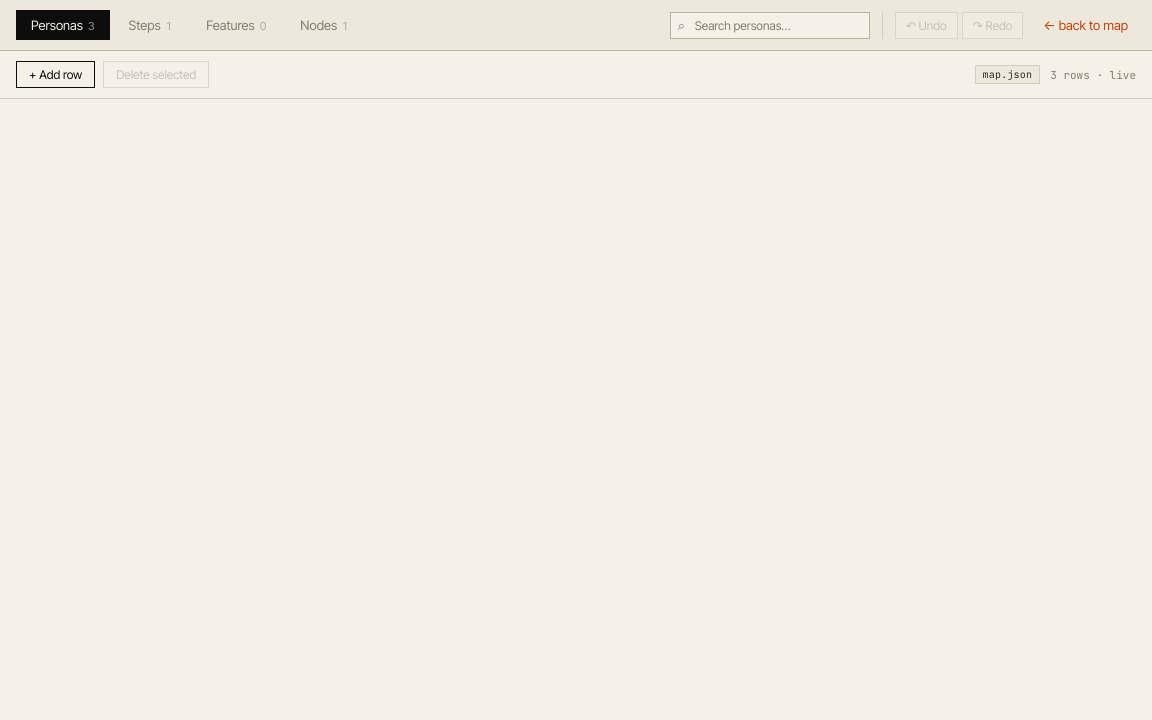
Test: DatabasePanel grid search › resets the search when switching tabs
Type "front" into the field named "search rows". click: (770, 25)
box: [670,12,870,38]
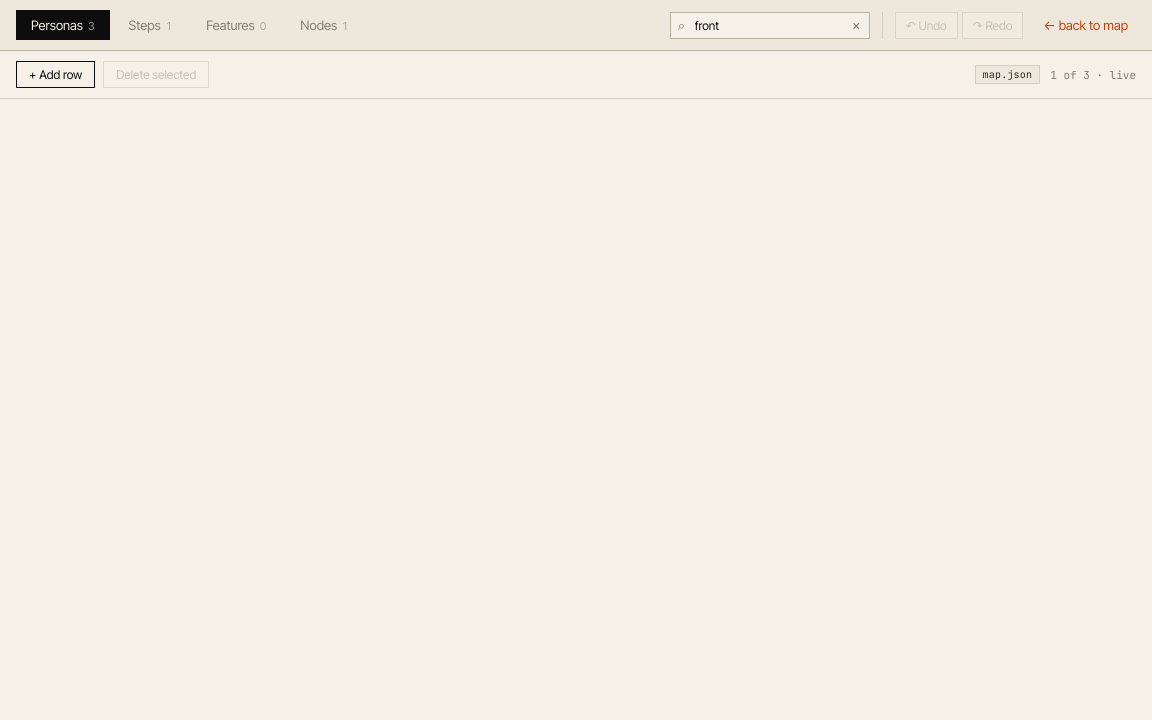
Result: the text "map.json 1 of 3 · live" is shown at [975,65,1136,84]
# switch to Steps, then back to Personas — the query must have cleared
Click the button "Steps1". click: click(150, 25)
box: [114,10,187,40]
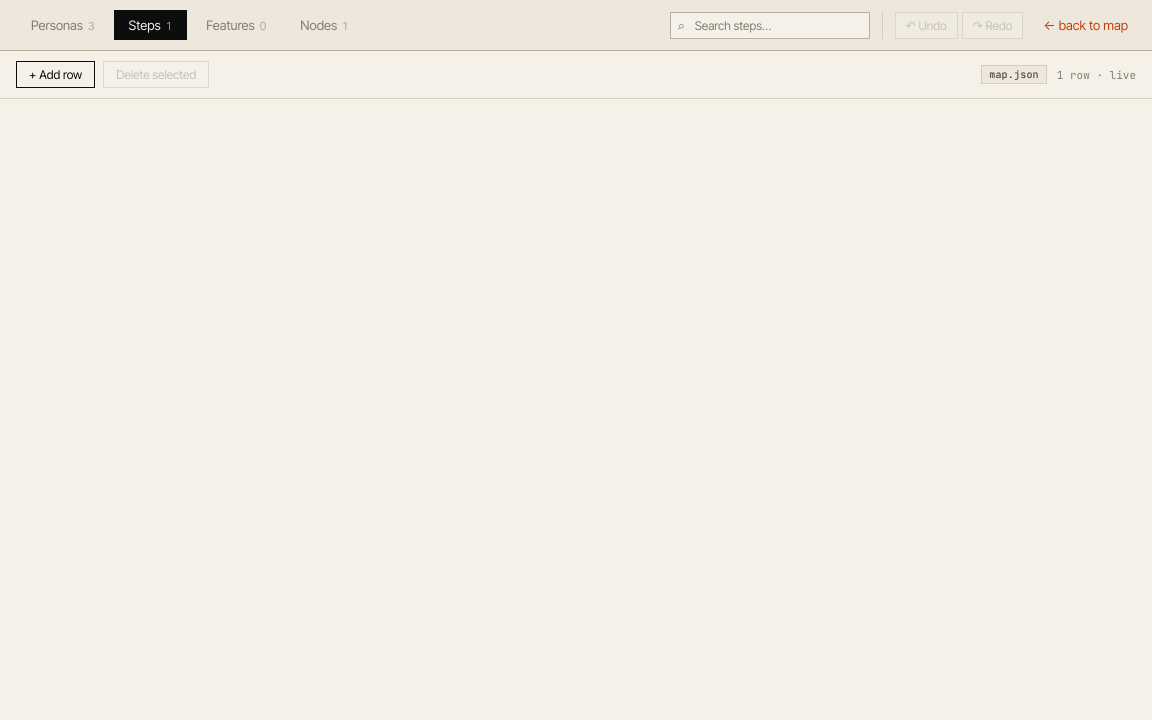
Click the button "Personas3". click: click(63, 25)
box: [16,10,110,40]
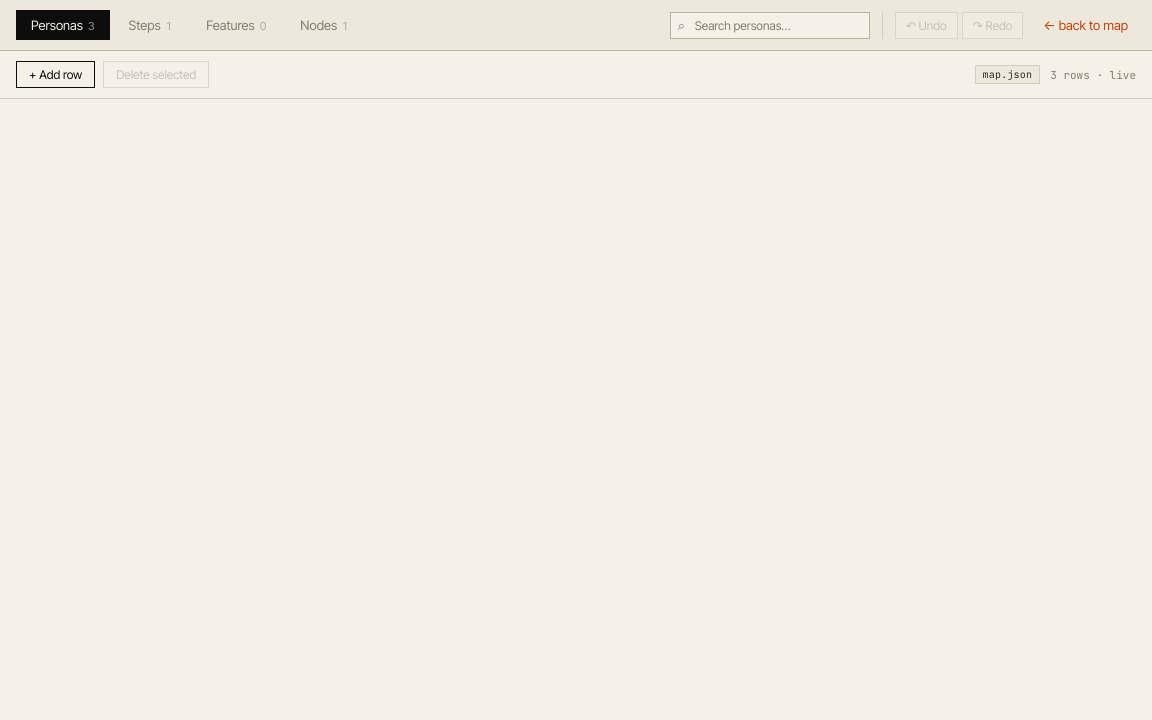
Result: the field named "search rows" is empty at [670,12,870,38]
Result: the text "map.json 3 rows · live" is shown at [975,65,1136,84]
